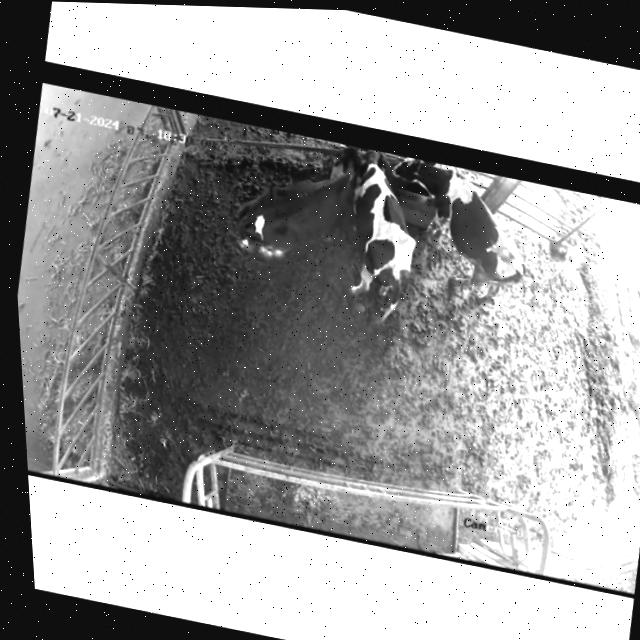drink: (386, 154, 462, 215), (321, 141, 370, 200), (353, 146, 400, 205)
